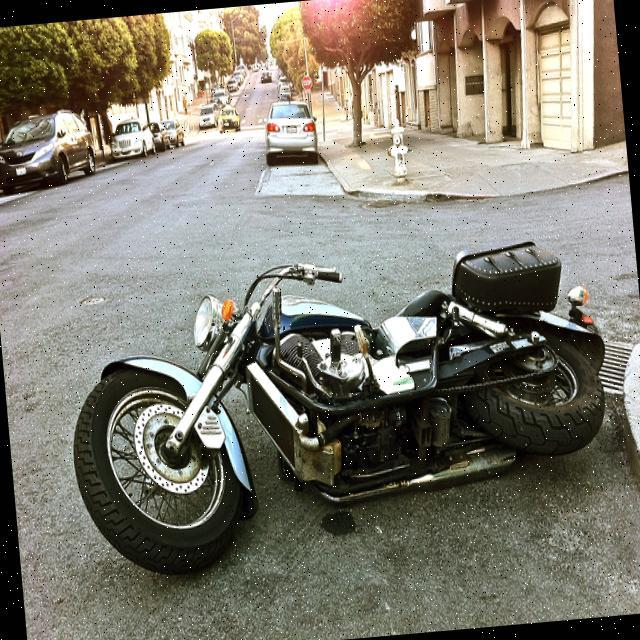fire_hydrant: (382, 114, 414, 184)
